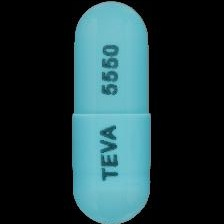0093-5550: (0, 0, 224, 224)
